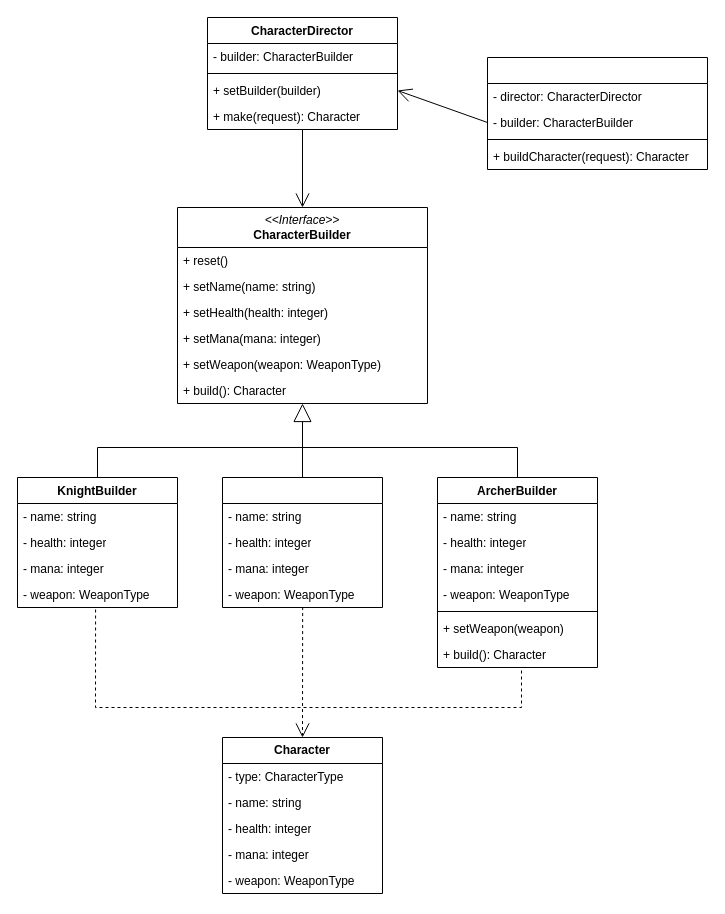
The diagram is 725 pixels wide and 914 high, and some of its shapes have lost their labels. Here are the shapes that lost their labels. From the top down, the box of each, then its label:
(486, 56, 708, 170): CharacterBuildClient
(222, 476, 382, 608): MageBuilder
